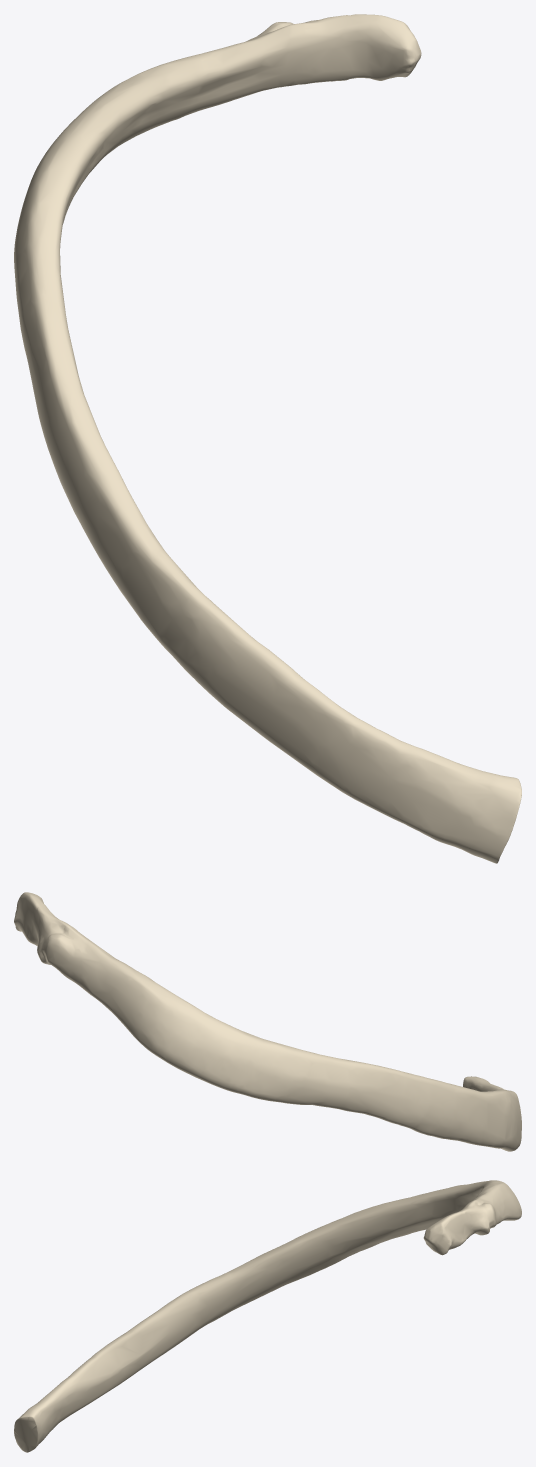
The model's file is fifth-rib-r.glb.
3 views of the same model, one above another, from view 1: azimuth 30°, elevation 25°; view 2: azimuth 150°, elevation 25°; view 3: azimuth 270°, elevation 25° (orthographic). The views are drawn at different scales.
Visible parts, largest first — view 1: Fifth rib.r; view 2: Fifth rib.r; view 3: Fifth rib.r.
Boxes of the visible parts, x1,y1,x2,y2 form: Fifth rib.r: [14, 14, 521, 863]; Fifth rib.r: [14, 892, 521, 1151]; Fifth rib.r: [14, 1180, 521, 1452].
Bounding box in the file's own units: 0.1158 × 0.126 × 0.1893.
